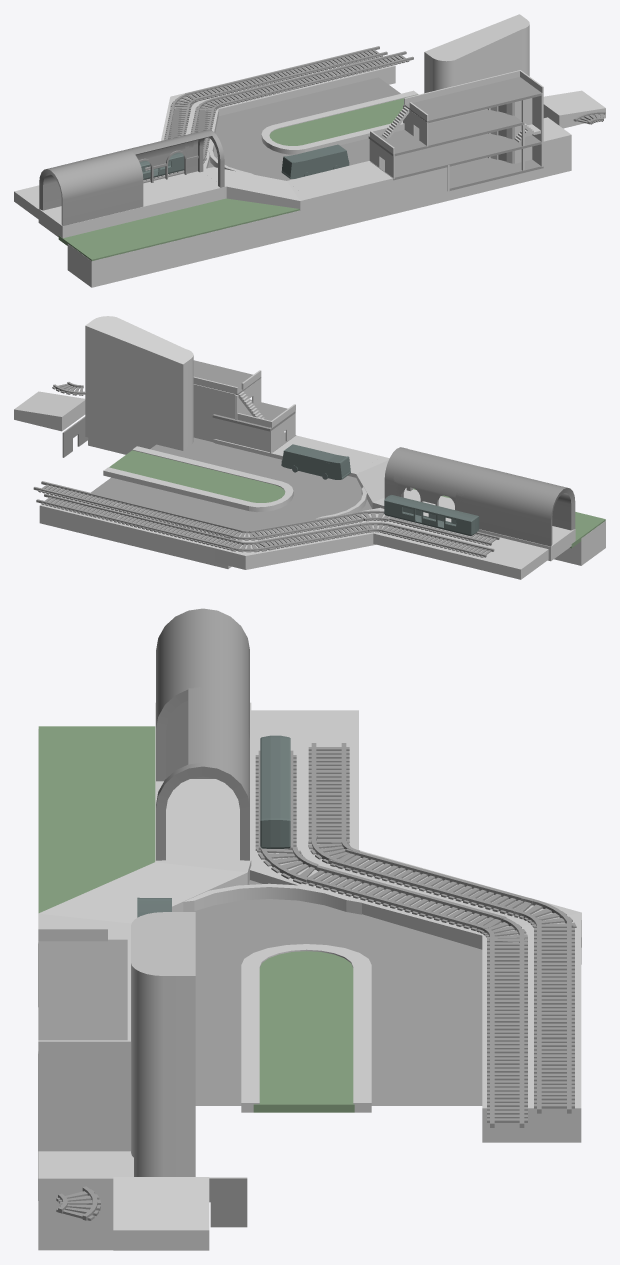
File: Hub Blockout Modular V3.fbx
The picture shows the model from 3 angles, top to bottom: view 1: azimuth 30°, elevation 25°; view 2: azimuth 150°, elevation 25°; view 3: azimuth 270°, elevation 25°; orthographic projection. The views are drawn at different scales.
Visible parts, largest first — view 1: MainOffice, Floor, StationClosed, BGfloor, GrassFront, BGbuilding, GrassField, TrainTracks_Full, Pathway, Ramp, TrainHill1, TrainTracks_Long (+10 smaller); view 2: BGbuilding, BGfloor, MainOffice, StationClosed, GrassField, TrainTracks_Full, TrainHill1, TrainHill3, TrainHill2, TrainTracks_Long, Train, SpareRamp (+12 smaller); view 3: BGfloor, GrassField, MainOffice, GrassFront, BGbuilding, TrainTracks_Full, TrainTracks_Long, StationClosed, Floor, SpareRamp, Ramp, TrainHill3 (+14 smaller).
Boxes of the visible parts, x1,y1,x2,y2 form: MainOffice: (368,70,543,191); Floor: (67,117,571,287); StationClosed: (38,150,143,238); BGfloor: (207,77,400,180); GrassFront: (58,198,299,260); BGbuilding: (424,14,529,93); GrassField: (261,90,418,154); TrainTracks_Full: (143,51,413,183); Pathway: (287,161,393,207); Ramp: (203,167,311,210); TrainHill1: (207,48,395,112); TrainTracks_Long: (185,46,387,101); BGbuilding: (85,316,193,450); BGfloor: (91,437,371,530); MainOffice: (193,360,296,456); StationClosed: (472,468,575,561); GrassField: (103,446,293,512); TrainTracks_Full: (33,481,499,545); TrainHill1: (39,490,249,568); TrainHill3: (373,508,548,579); TrainHill2: (209,507,402,569); TrainTracks_Long: (36,493,244,550); Train: (384,495,479,535); SpareRamp: (14,391,85,431); BGfloor: (189,880,482,1105); GrassField: (241,944,371,1112); MainOffice: (38,928,130,1200); GrassFront: (38,726,155,912); BGbuilding: (131,912,195,1176); TrainTracks_Full: (255,750,527,1127); TrainTracks_Long: (534,920,574,1113); StationClosed: (155,608,251,781); Floor: (38,729,133,1250); SpareRamp: (113,1177,209,1250); Ramp: (38,859,250,923); TrainHill3: (250,710,358,869).
Size of the model in its own units: 136 by 32.01 by 60.23.
